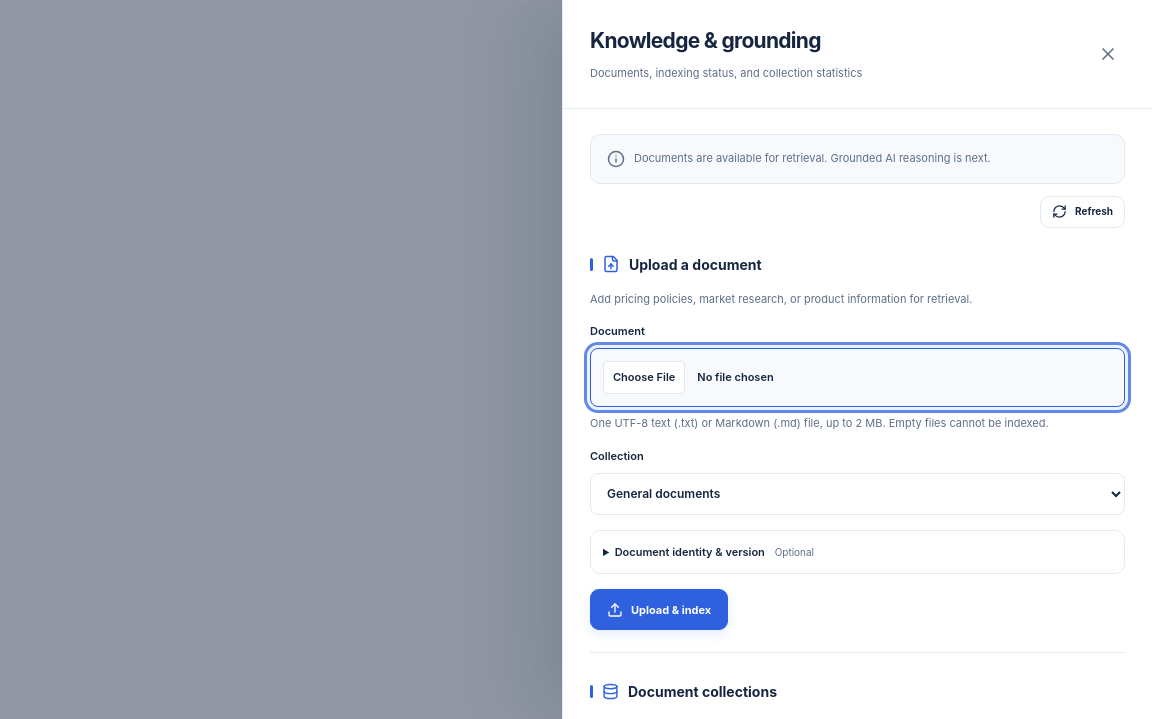
document upload submits multipart identity and retains safe indexing failure evidence
Earlier steps of the test are not shown.
Select "Pricing policies" in the dropdown labelled "Collection" at x=858, y=494, box [590,473,1125,515]
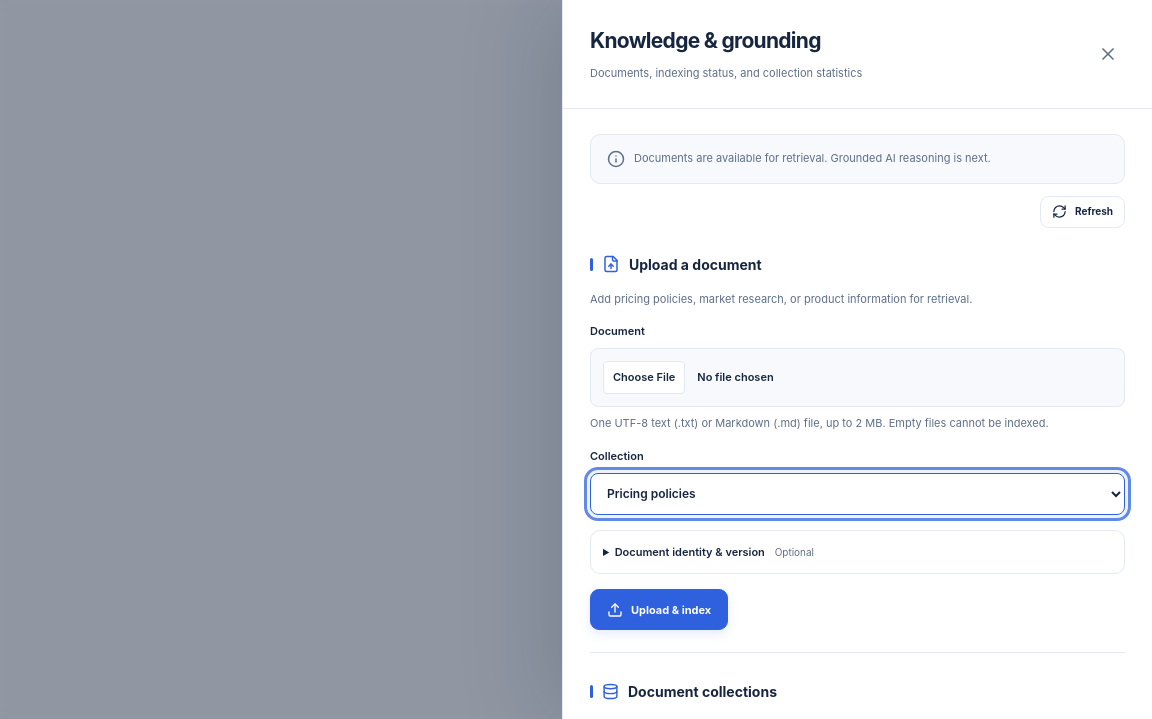
Click the heading "Document identity & version Optional" at x=714, y=552, box [615,545,814,559]
(page scrolled)
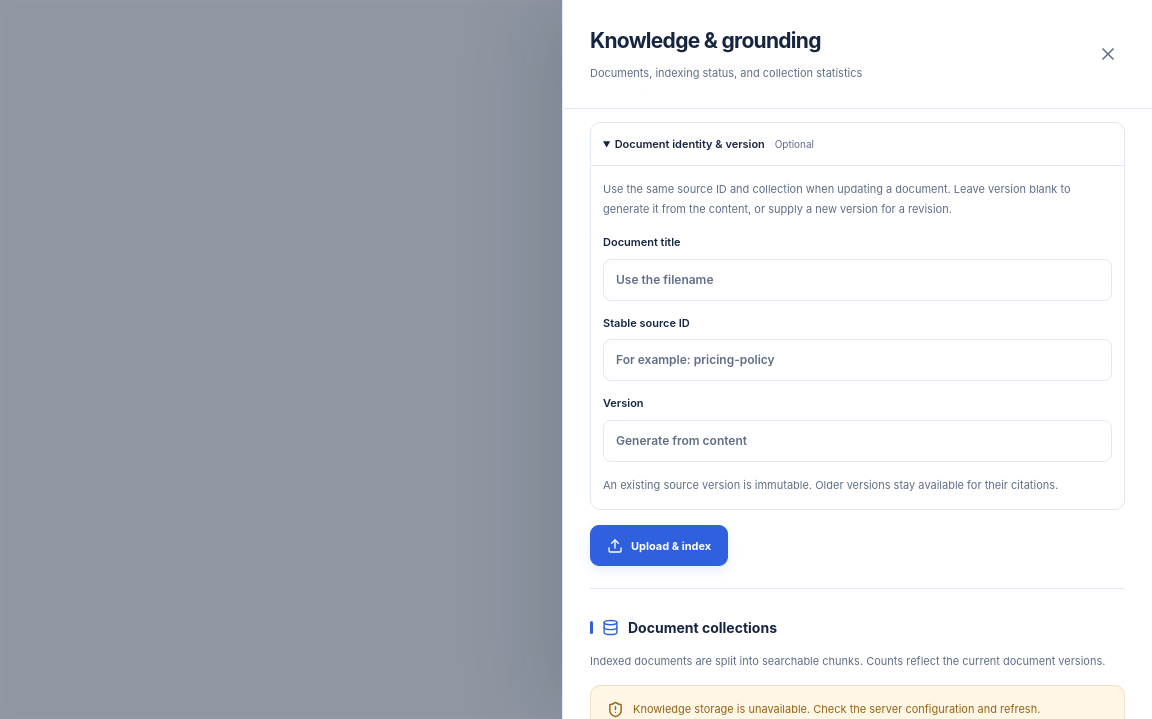
Type "demo-policy" into the field labelled "Stable source ID" at x=858, y=360, box [603,339,1112,381]
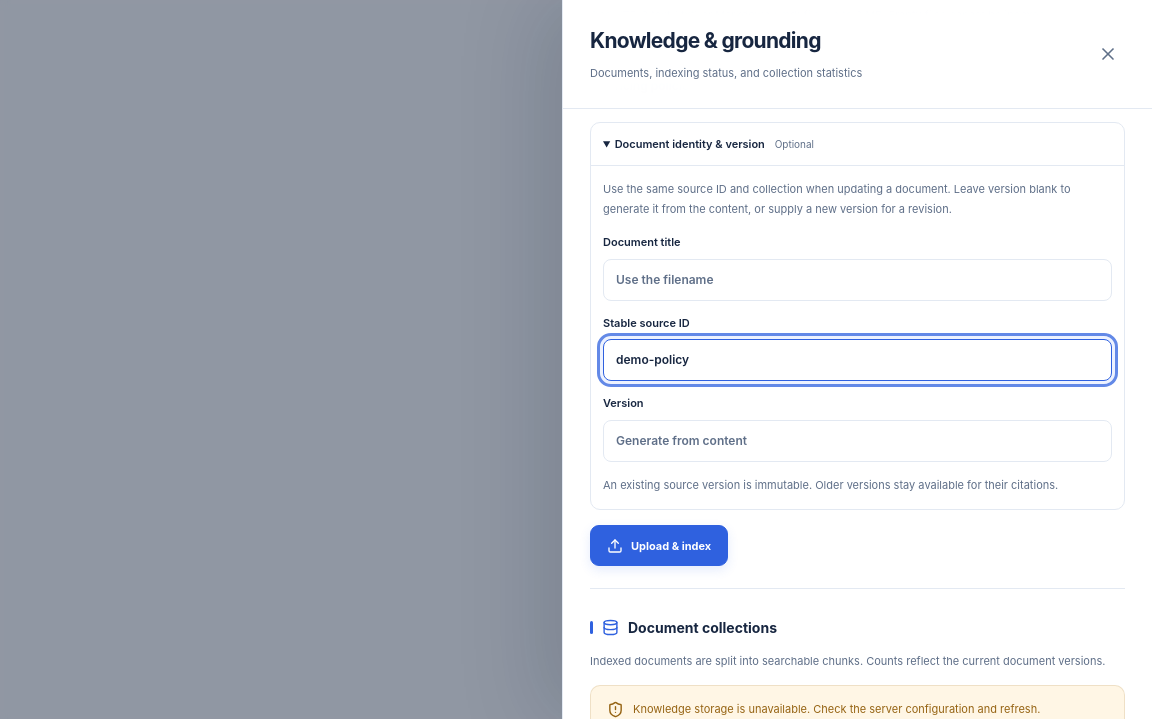
Type "v2" into the field labelled "Version" at x=858, y=441, box [603,420,1112,462]
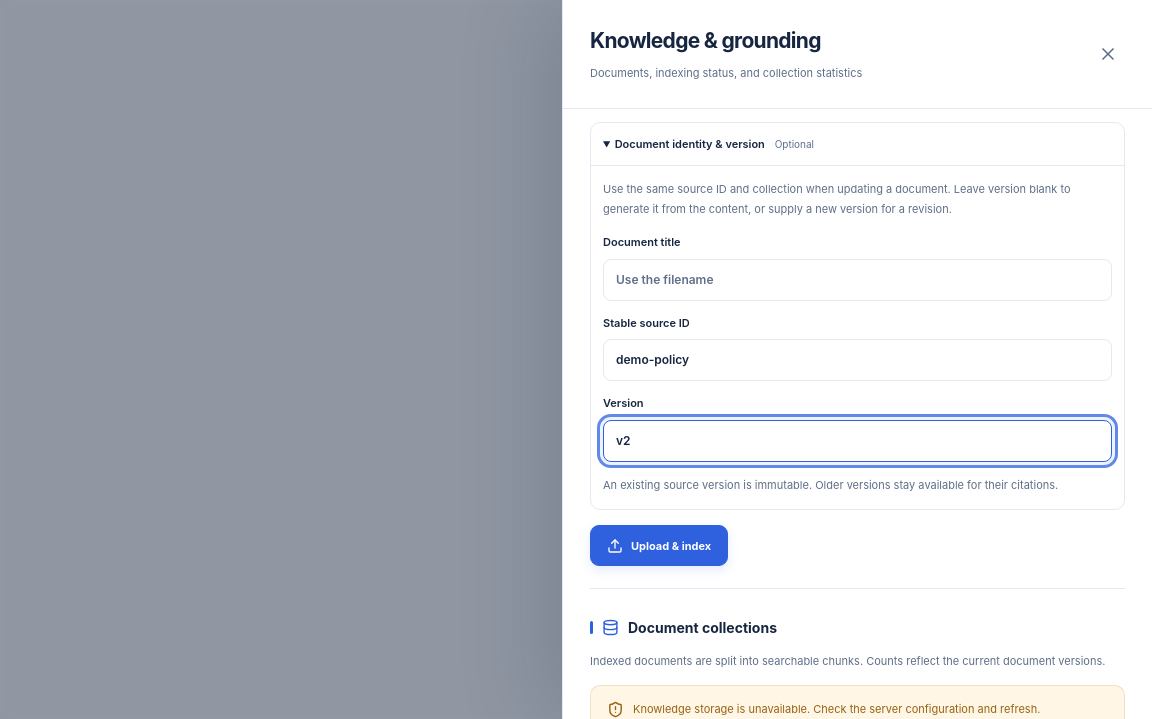
Click the button "Upload & index" at x=659, y=546, box [590,525,728,566]
(page scrolled)
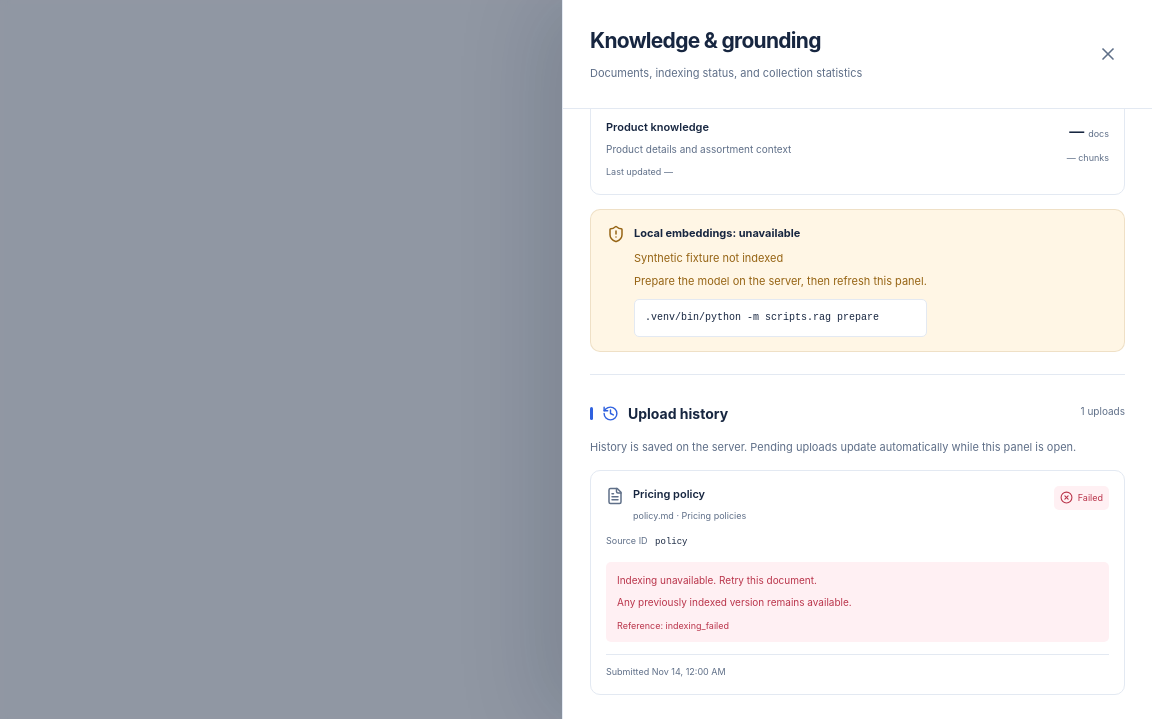
Expected: the text "Indexing unavailable. Retry this document." is shown, [617,574,817,586]
Expected: the text "Any previously indexed version remains available." is shown, [617,596,852,608]
